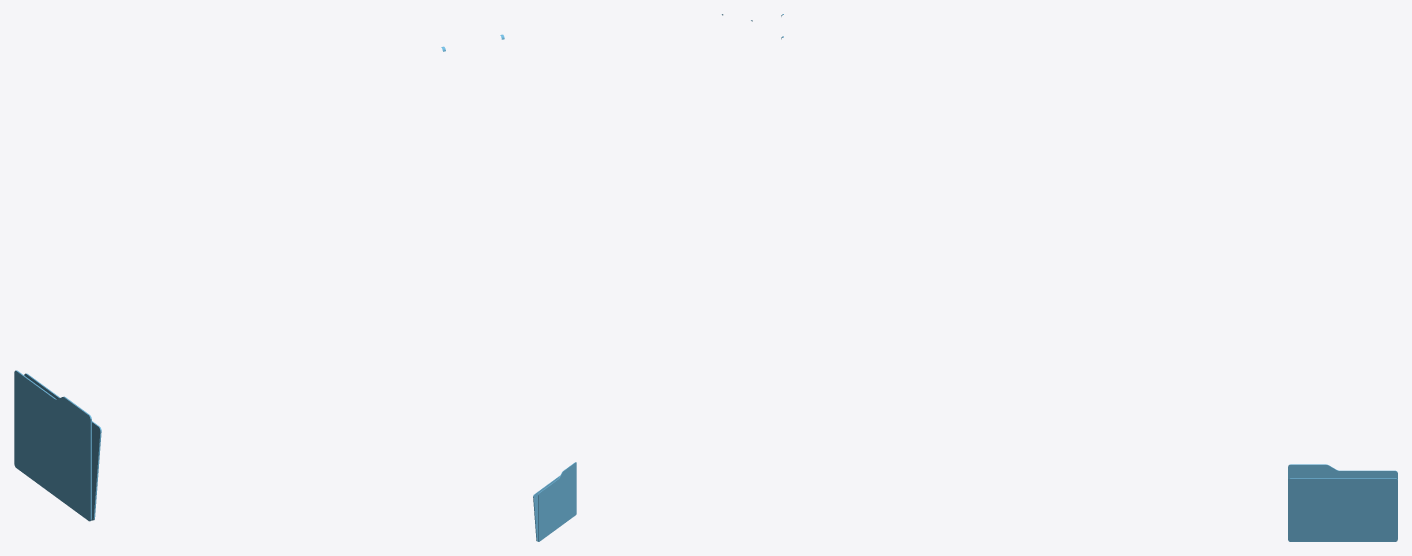
The picture shows the model from 3 angles, left to right: view 1: azimuth 30°, elevation 25°; view 2: azimuth 150°, elevation 25°; view 3: azimuth 270°, elevation 25°; orthographic projection. The views are drawn at different scales.
Visible parts, largest first — view 1: Cube.002; view 2: Cube.002; view 3: Cube.002.
Part boxes in pixels (x1,y1,x2,y2): Cube.002: [14, 34, 504, 521]; Cube.002: [533, 14, 752, 541]; Cube.002: [781, 14, 1397, 541].
Size of the model in its own units: 2.34 by 26.37 by 27.99.
